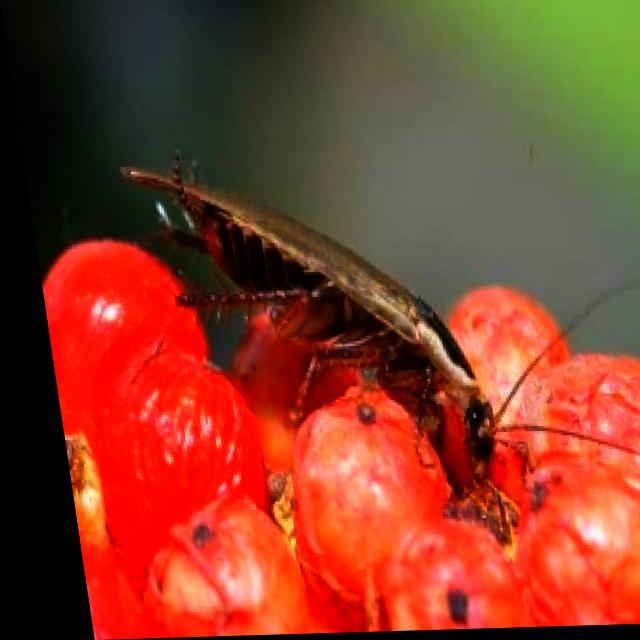cockroach: (70, 117, 604, 561)
